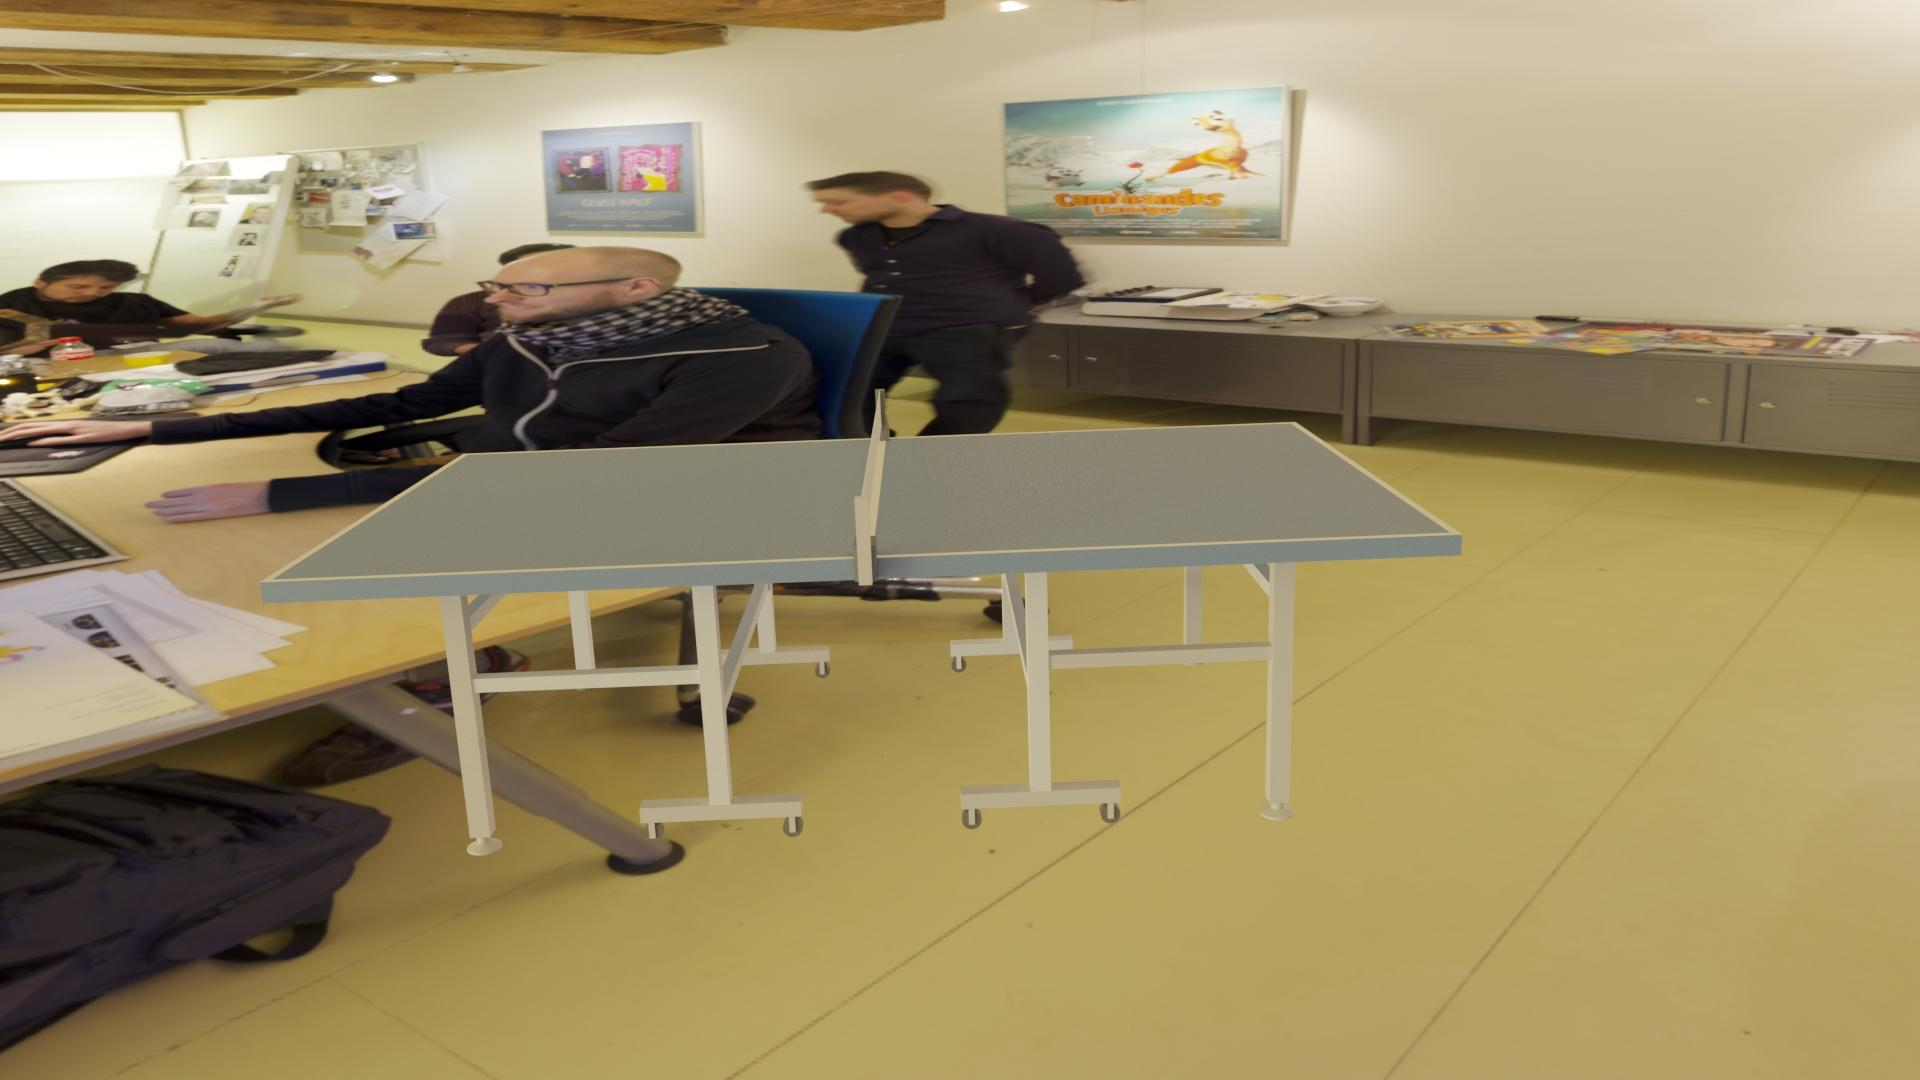table: (272, 423, 1451, 579)
